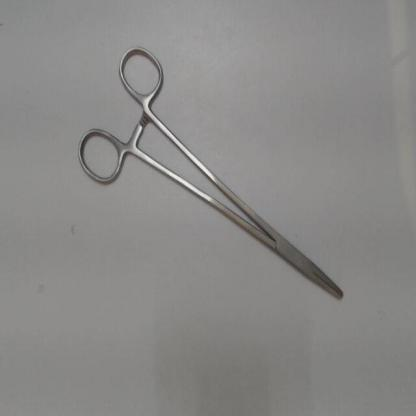8 Mayo Needle Holder: (70, 38, 356, 316)
